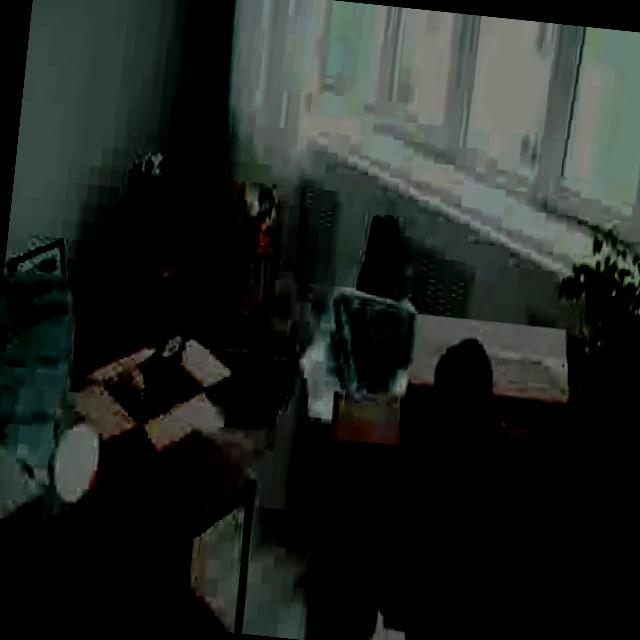Box: (322, 398, 404, 534), (316, 528, 386, 622), (74, 268, 134, 364), (124, 198, 187, 272)
